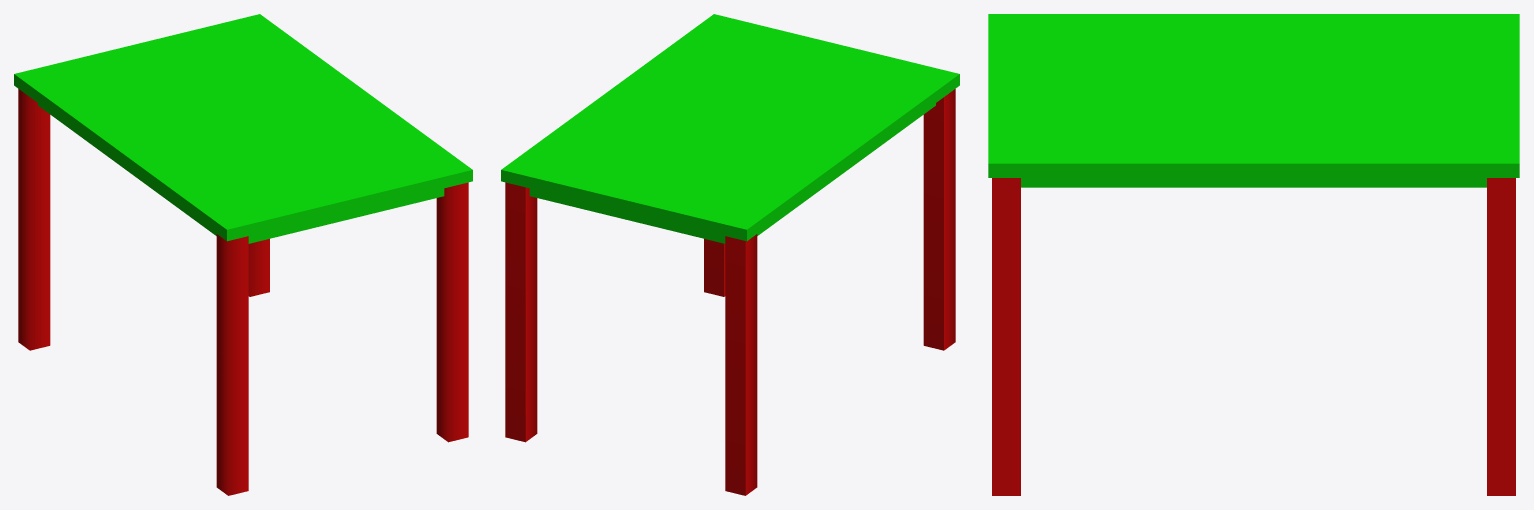
Rendered from table.fbx.
3 renders of one model, left to right at view 1: azimuth 30°, elevation 25°; view 2: azimuth 150°, elevation 25°; view 3: azimuth 270°, elevation 25°, orthographic. The views are drawn at different scales.
Visible parts, largest first — view 1: Table; view 2: Table; view 3: Table.
Boxes of the visible parts, box(x1,y1,x2,y2) form: Table: box(14, 14, 472, 495); Table: box(501, 14, 959, 495); Table: box(988, 14, 1519, 495).
Size of the model in its own units: 1 by 1.04 by 1.5.
